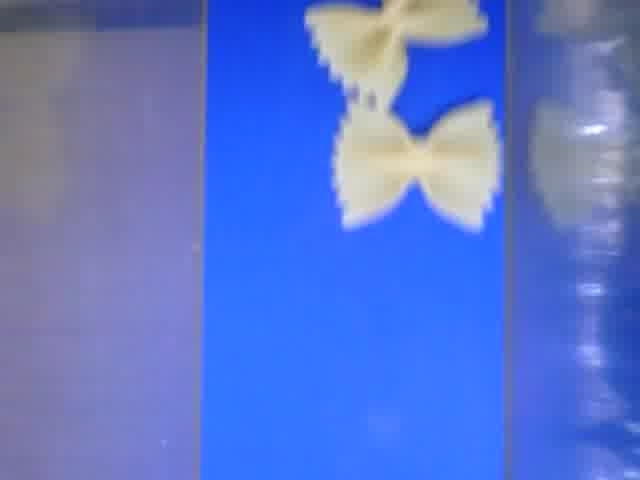farfalle: (331, 98, 501, 234), (303, 1, 490, 115)
